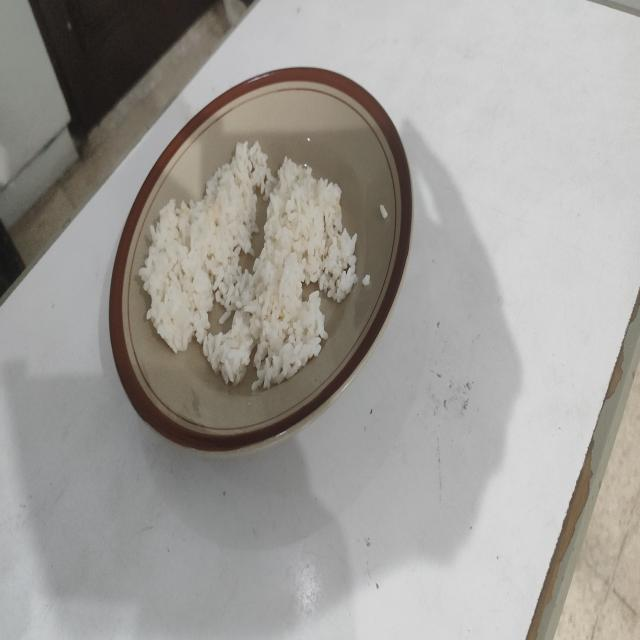nasi_putih: (138, 142, 358, 390)
